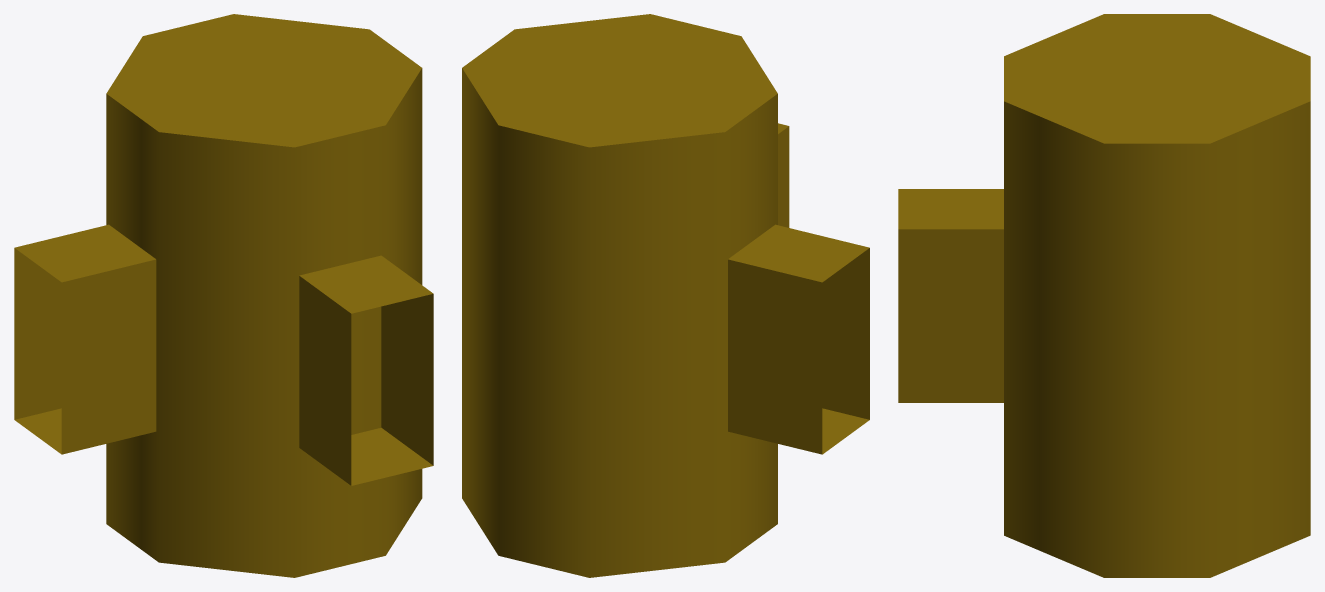
Rendered from pole_fence_corner_inner.glb.
3 renders of one model, left to right at view 1: azimuth 30°, elevation 25°; view 2: azimuth 150°, elevation 25°; view 3: azimuth 270°, elevation 25°, orthographic.
Parts seen in each view (by area): view 1: coppice_fence_corner_inner; view 2: coppice_fence_corner_inner; view 3: coppice_fence_corner_inner.
Boxes of the visible parts, <box> form: coppice_fence_corner_inner: <box>14,14,433,577</box>; coppice_fence_corner_inner: <box>462,14,869,577</box>; coppice_fence_corner_inner: <box>898,14,1310,577</box>.
Size of the model in its own units: 0.87 by 1 by 0.86.
